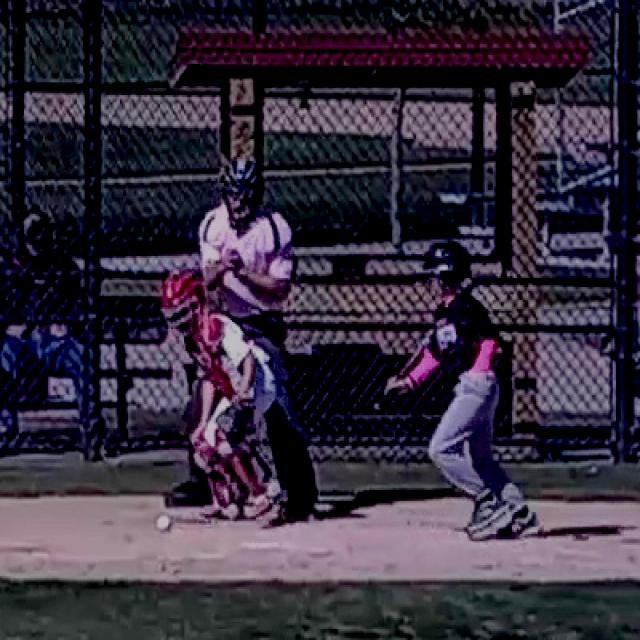baseball: (156, 515, 170, 529)
